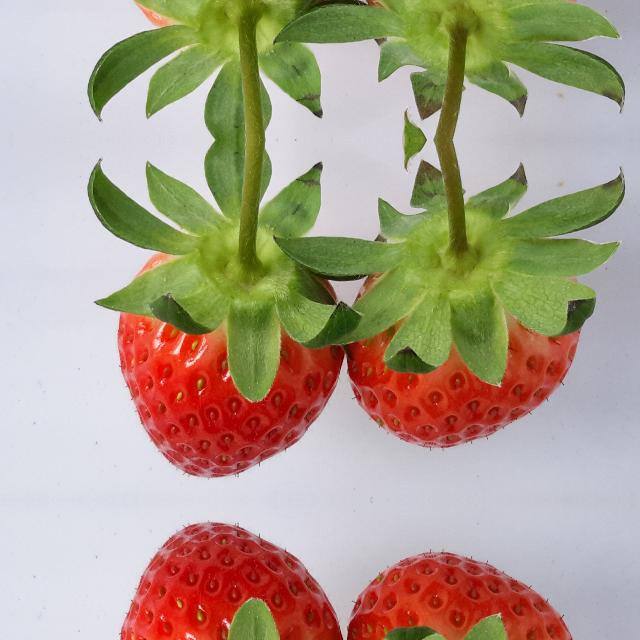Health_100: (348, 223, 582, 461), (117, 250, 345, 480), (117, 520, 345, 640), (348, 539, 582, 640), (348, 0, 582, 57)
